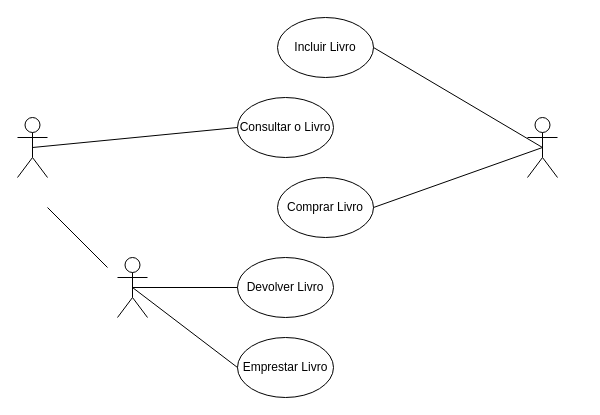
This 600x415 diagram has some shape labels left out. Each missing label, with the centre of its shape:
Atendente: pixel 132 287
Bibliotecária(o): pixel 542 147
Leitor: pixel 32 147
